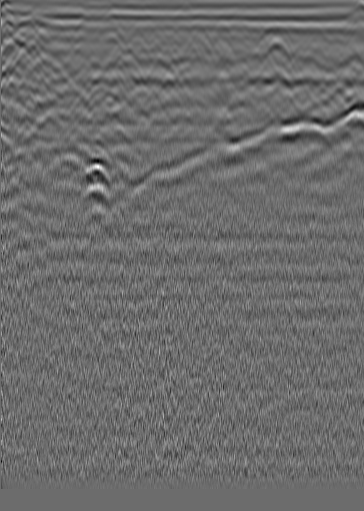가스: (79, 154, 119, 193)
상수: (304, 32, 324, 52)
오수: (18, 38, 38, 58)
우수: (186, 30, 215, 54)
